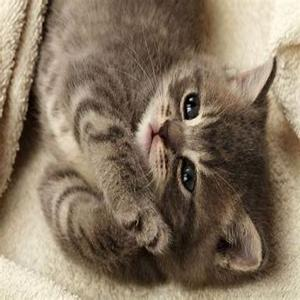cat: (149, 69, 263, 229)
